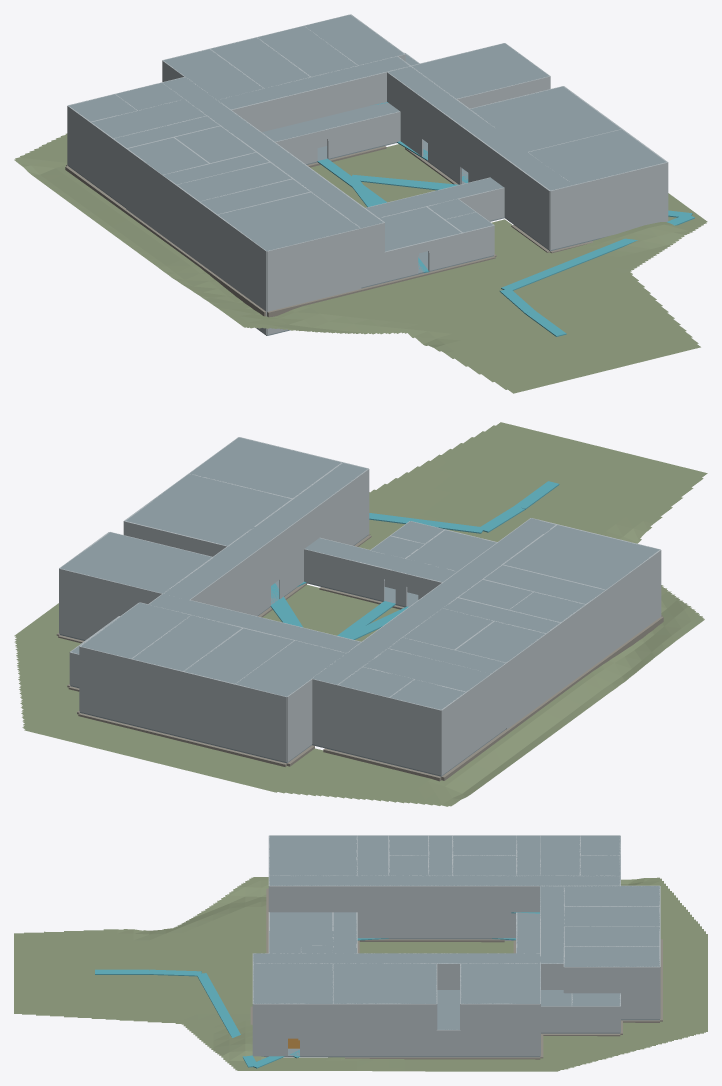
The model's file is cut-terrain.glb.
The picture shows the model from 3 angles, top to bottom: view 1: azimuth 30°, elevation 25°; view 2: azimuth 150°, elevation 25°; view 3: azimuth 270°, elevation 25°; orthographic projection. The views are drawn at different scales.
Visible parts, largest first — view 1: Saved editor circulation terrain ACADEMY, Ceiling cap study, Wall upper-east W, Ceiling cap upper-west, Ceiling cap upper-main-stair, Wall upper-north S, Ceiling cap restricted, Ceiling cap upper-east-stair, Ceiling cap upper-east, Wall upper-main-stair S, Wall upper-east-stair S, Wall main-stair S (+44 smaller); view 2: Saved editor circulation terrain ACADEMY, Ceiling cap study, Ceiling cap upper-west, Wall upper-east W, Ceiling cap upper-main-stair, Ceiling cap restricted, Ceiling cap upper-east-stair, Ceiling cap upper-east, Ceiling cap dorm-1, Ceiling cap dorm-4, Ceiling cap dorm-3, Ceiling cap dorm-2 (+51 smaller); view 3: Saved editor circulation terrain ACADEMY, Flat route shell Wall upper-west E.001, Flat route shell Wall west E.001, Ceiling cap study, Ceiling cap upper-main-stair, Ceiling cap upper-west, Ceiling cap restricted, Ceiling cap upper-east-stair, Ceiling cap upper-east, Wall study E, Wall lecture E, Wall dorm-4 E (+33 smaller).
Part boxes in pixels (<box>): Saved editor circulation terrain ACADEMY: <box>14,133,707,393</box>; Ceiling cap study: <box>470,86,620,151</box>; Wall upper-east W: <box>387,72,550,220</box>; Ceiling cap upper-west: <box>163,77,383,228</box>; Ceiling cap upper-main-stair: <box>218,192,360,250</box>; Wall upper-north S: <box>230,70,393,131</box>; Ceiling cap restricted: <box>412,43,549,98</box>; Ceiling cap upper-east-stair: <box>529,129,666,184</box>; Ceiling cap upper-east: <box>388,66,572,190</box>; Wall upper-main-stair S: <box>267,228,361,280</box>; Wall upper-east-stair S: <box>574,162,667,214</box>; Wall main-stair S: <box>267,258,361,310</box>; Saved editor circulation terrain ACADEMY: <box>14,422,707,806</box>; Ceiling cap study: <box>126,474,291,545</box>; Ceiling cap upper-west: <box>312,518,555,684</box>; Wall upper-east W: <box>189,469,369,607</box>; Ceiling cap upper-main-stair: <box>503,525,659,589</box>; Ceiling cap restricted: <box>60,532,211,593</box>; Ceiling cap upper-east-stair: <box>190,437,342,498</box>; Ceiling cap upper-east: <box>163,462,367,599</box>; Ceiling cap dorm-1: <box>236,640,346,696</box>; Ceiling cap dorm-4: <box>81,602,190,658</box>; Ceiling cap dorm-3: <box>132,615,241,670</box>; Ceiling cap dorm-2: <box>185,628,293,683</box>; Saved editor circulation terrain ACADEMY: <box>14,877,707,1071</box>; Flat route shell Wall upper-west E.001: <box>269,885,546,912</box>; Flat route shell Wall west E.001: <box>357,912,515,938</box>; Ceiling cap study: <box>333,963,436,1003</box>; Ceiling cap upper-main-stair: <box>269,835,356,875</box>; Ceiling cap upper-west: <box>269,876,620,885</box>; Ceiling cap restricted: <box>460,963,540,1003</box>; Ceiling cap upper-east-stair: <box>253,963,332,1003</box>; Ceiling cap upper-east: <box>253,953,540,963</box>; Wall study E: <box>333,1003,436,1030</box>; Wall lecture E: <box>333,1030,436,1056</box>; Wall dorm-4 E: <box>564,966,659,993</box>.
Size of the model in its own units: 58 by 10.36 by 87.
